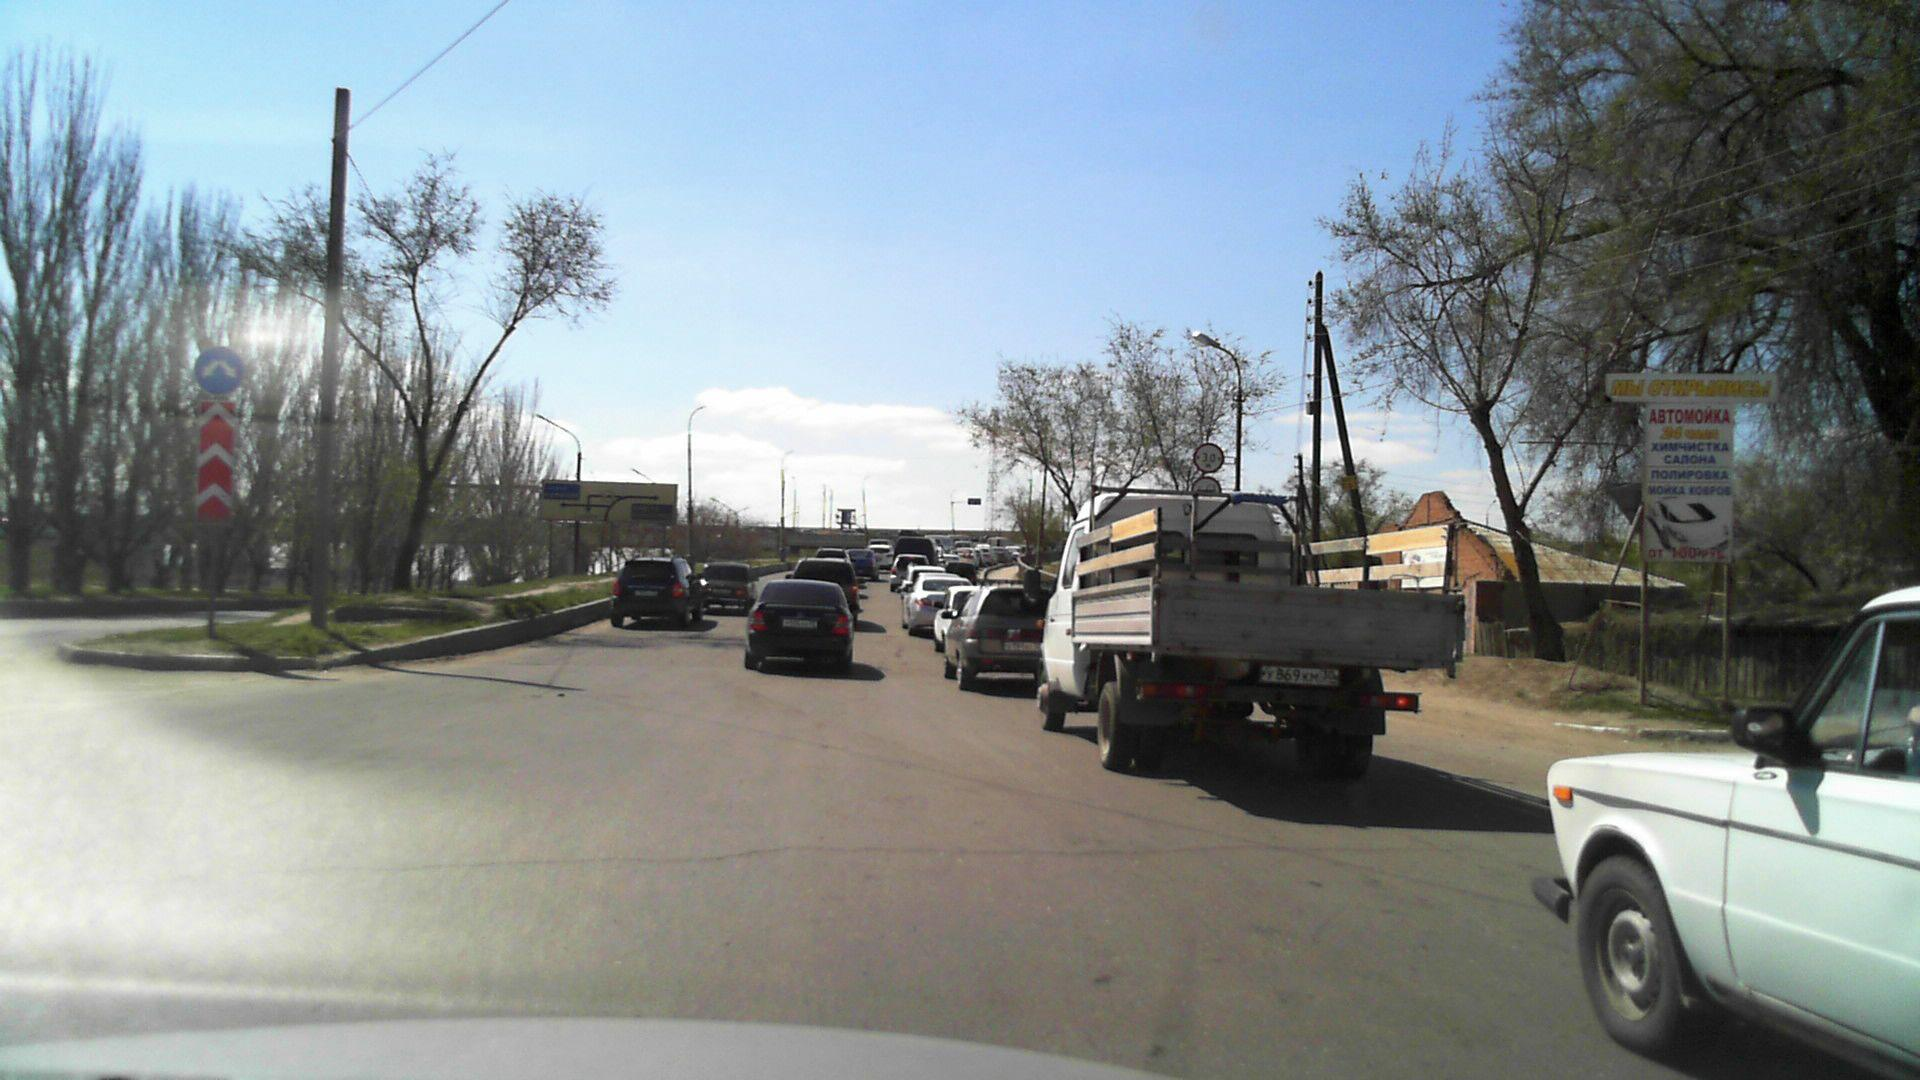3_14: (1192, 443, 1224, 473)
3_6: (1189, 477, 1222, 506)
4_2_3: (190, 340, 244, 401)
6_9_1: (539, 476, 676, 527)
8_22_3: (191, 393, 237, 526)
